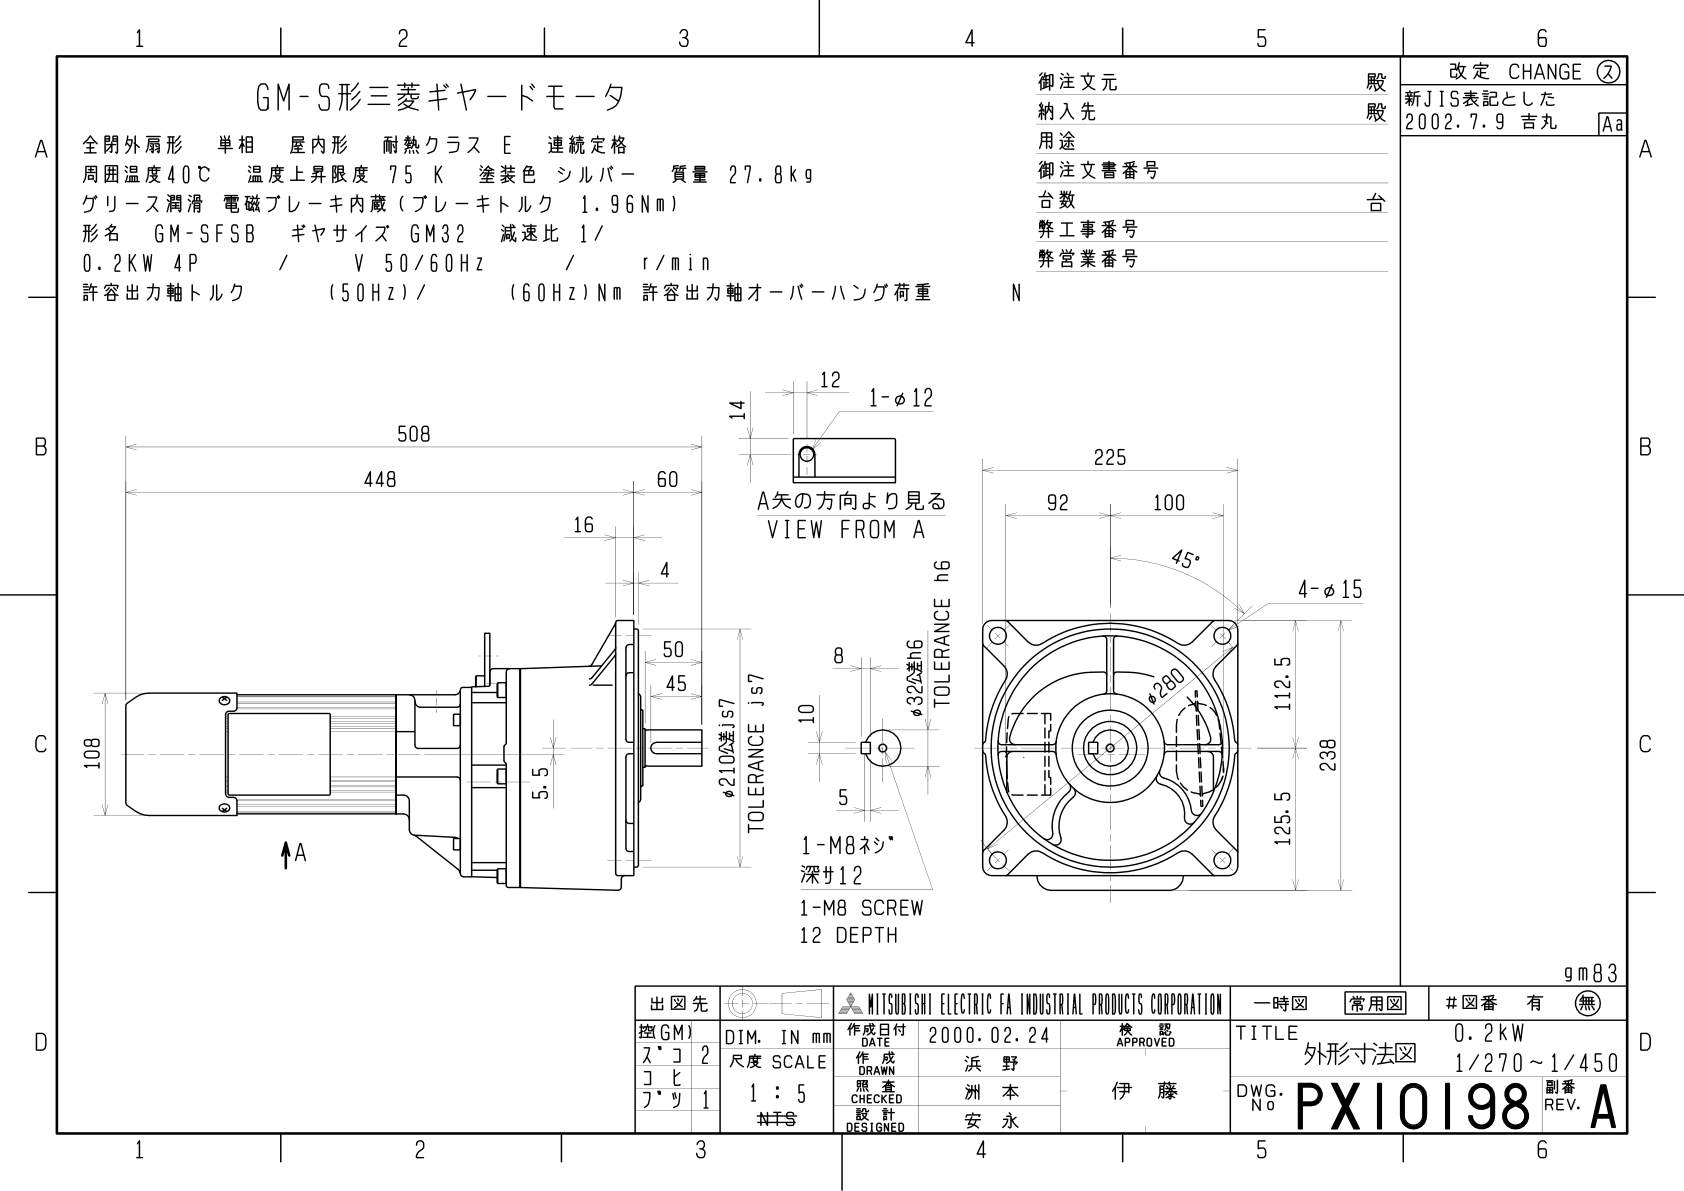GM_S_屋内＿単相_フランジ: (12, 3, 1684, 1191)
